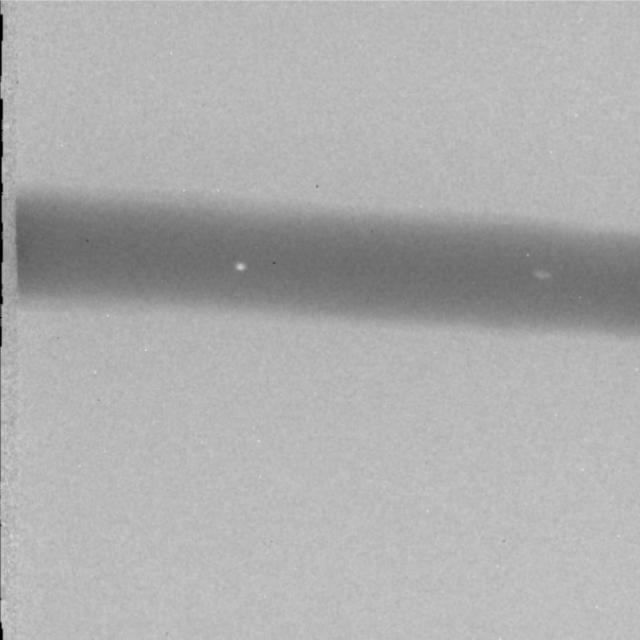air hole: (532, 267, 552, 282), (232, 257, 247, 272)
